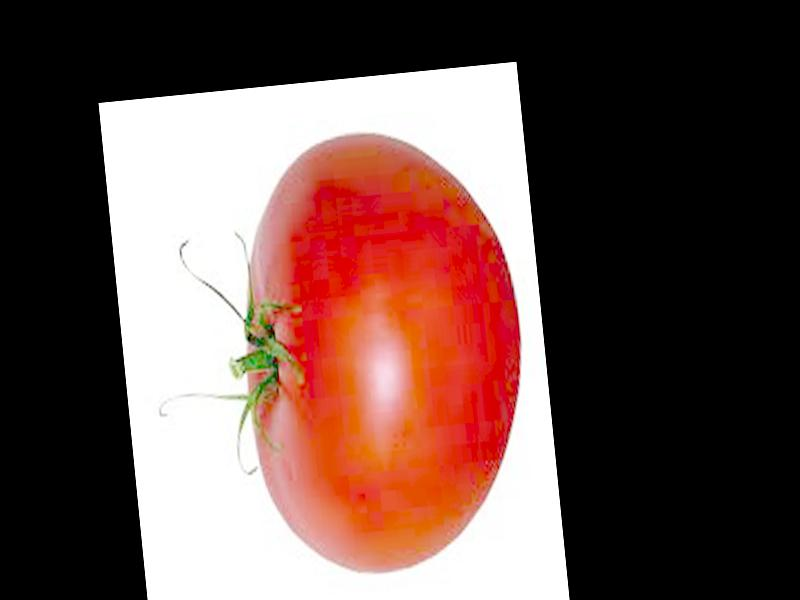Tomato: (223, 120, 541, 587)
